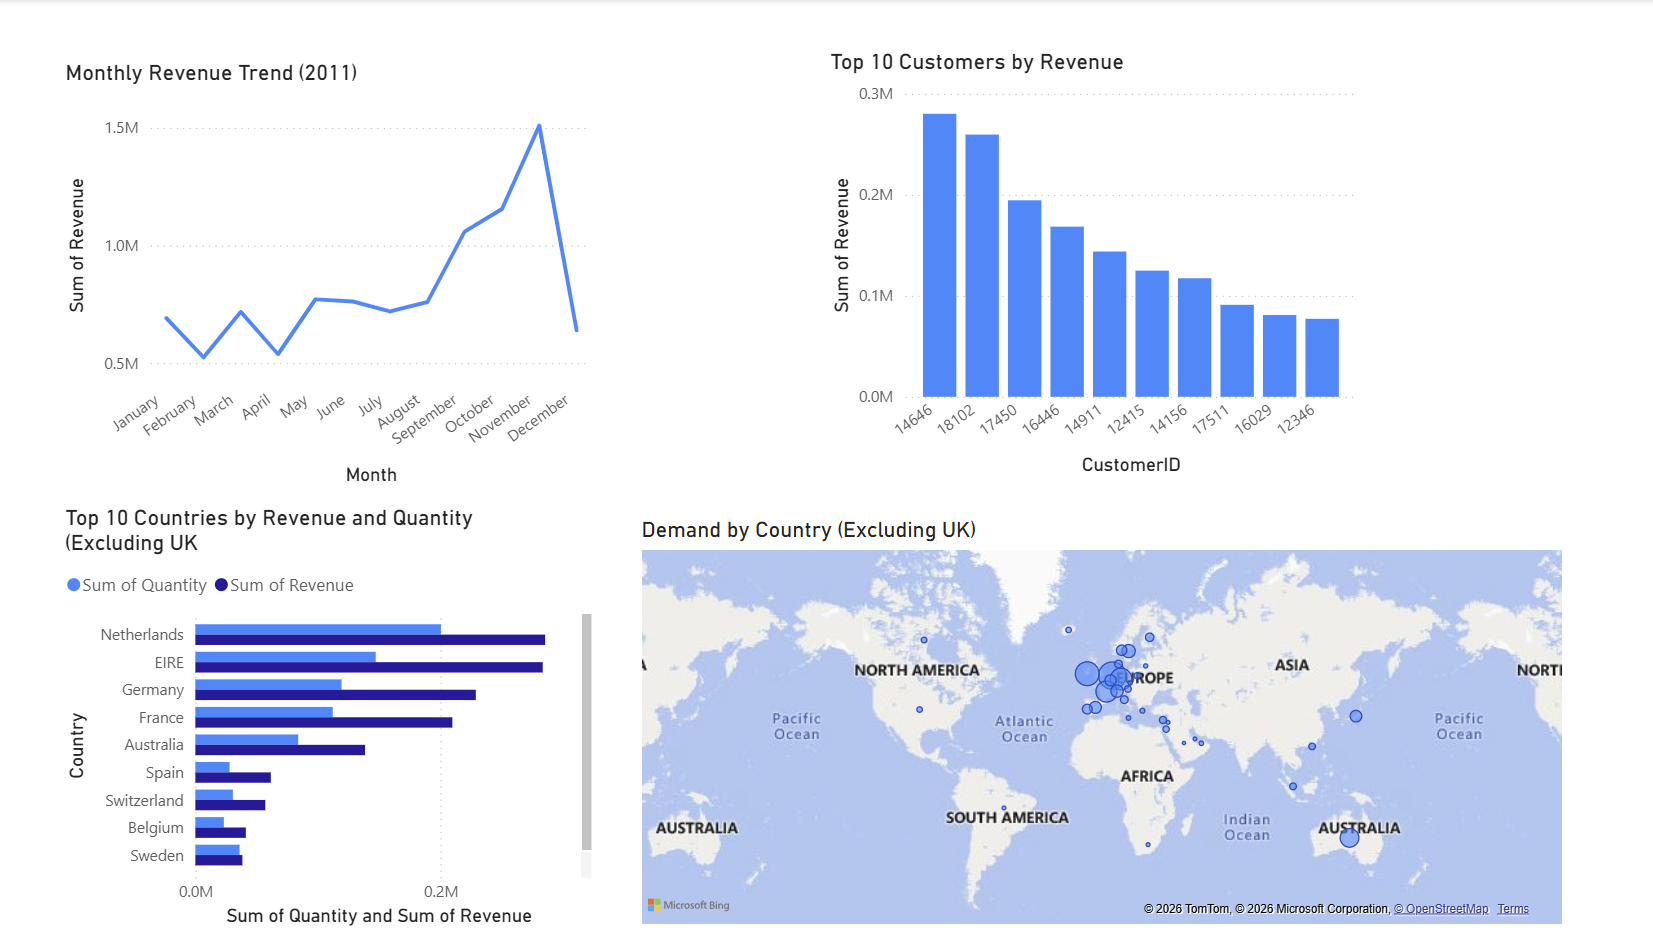

Layout of this report page (visuals, bound fields, positions):
{"tool":"powerbi","page":{"name":"Page 1","canvas":[1280,720],"ordinal":0},"visuals":[{"type":"lineChart","title":"Monthly Revenue Trend (2011)","fields":{"Y":["Sum(Online Retail.Revenue)"],"Category":["Online Retail.InvoiceDate.Variation.Date Hierarchy.Month"]},"box":[48.7,46.3,416,333.7],"z":0},{"type":"clusteredBarChart","title":"Top 10 Countries by Revenue and Quantity (Excluding UK","fields":{"Category":["Online Retail.Country"],"Y":["Sum(Online Retail.Quantity)","Sum(Online Retail.Revenue)"]},"box":[49,390,416,330],"z":1000},{"type":"clusteredColumnChart","title":"Top 10 Customers by Revenue","fields":{"Category":["Online Retail.CustomerID"],"Y":["Sum(Online Retail.Revenue)"]},"box":[639.6,38.2,416,333.7],"z":2000},{"type":"map","title":"Demand by Country (Excluding UK)","fields":{"Category":["Online Retail.Country"],"Size":["Sum(Online Retail.Quantity)"]},"box":[493.6,399.8,720.7,319.8],"z":3000}]}

Visuals, with their boxes in screenshot pixels (x1, y1, x2, y2), scaled from the page's 1280x720 canvas onto the 1653x930 screenshot:
"Monthly Revenue Trend (2011)" lineChart: x1=63, y1=60, x2=600, y2=491
"Top 10 Countries by Revenue and Quantity (Excluding UK" clusteredBarChart: x1=63, y1=504, x2=601, y2=929
"Top 10 Customers by Revenue" clusteredColumnChart: x1=826, y1=49, x2=1363, y2=480
"Demand by Country (Excluding UK)" map: x1=637, y1=516, x2=1568, y2=929
